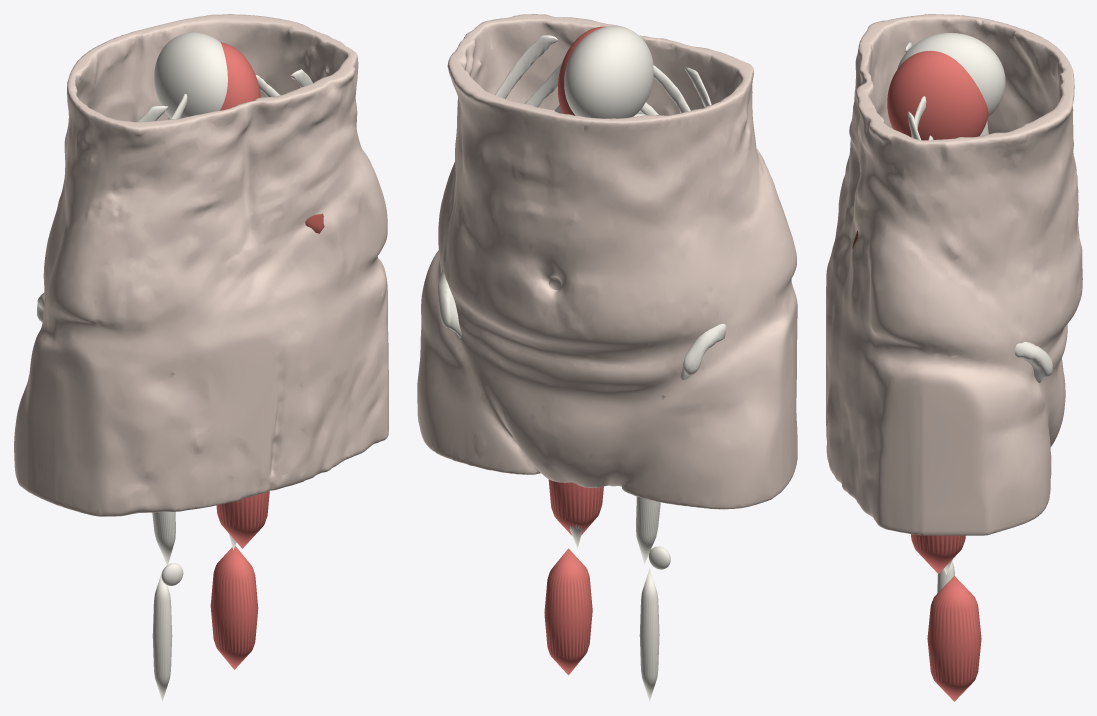
The model's file is Human_Torso_Anatomy_Full.fbx.
The picture shows the model from 3 angles, left to right: view 1: azimuth 30°, elevation 25°; view 2: azimuth 150°, elevation 25°; view 3: azimuth 270°, elevation 25°; orthographic projection.
Parts seen in each view (by area): view 1: Body_Silhouette, Skull_Cranium, Muscle_Calf, Tibia, Muscle_Quadriceps, Muscle_Face, Spine, Femur_L; view 2: Body_Silhouette, Skull_Cranium, Spine, Muscle_Calf, Muscle_Quadriceps, Tibia, Femur_L, Muscle_Face; view 3: Body_Silhouette, Muscle_Face, Muscle_Calf, Skull_Cranium, Spine, Muscle_Quadriceps.
Boxes of the visible parts, x1,y1,x2,y2 form: Body_Silhouette: (14,14,388,516); Skull_Cranium: (154,32,227,118); Muscle_Calf: (210,546,258,669); Tibia: (152,570,172,701); Muscle_Quadriceps: (216,491,269,548); Muscle_Face: (220,42,260,110); Spine: (37,69,312,322); Femur_L: (152,512,175,565); Body_Silhouette: (417,14,797,509); Skull_Cranium: (564,26,653,118); Spine: (437,35,726,380); Muscle_Calf: (544,548,592,675); Muscle_Quadriceps: (548,479,603,535); Tibia: (639,568,659,701); Femur_L: (636,496,660,564); Muscle_Face: (558,26,606,115); Body_Silhouette: (826,14,1082,535); Muscle_Face: (887,50,988,140); Muscle_Calf: (927,576,981,701); Skull_Cranium: (897,33,1005,117); Spine: (905,42,1052,382); Muscle_Quadriceps: (911,534,965,573).
Bounding box in the file's own units: 98.65 × 181 × 63.96.
